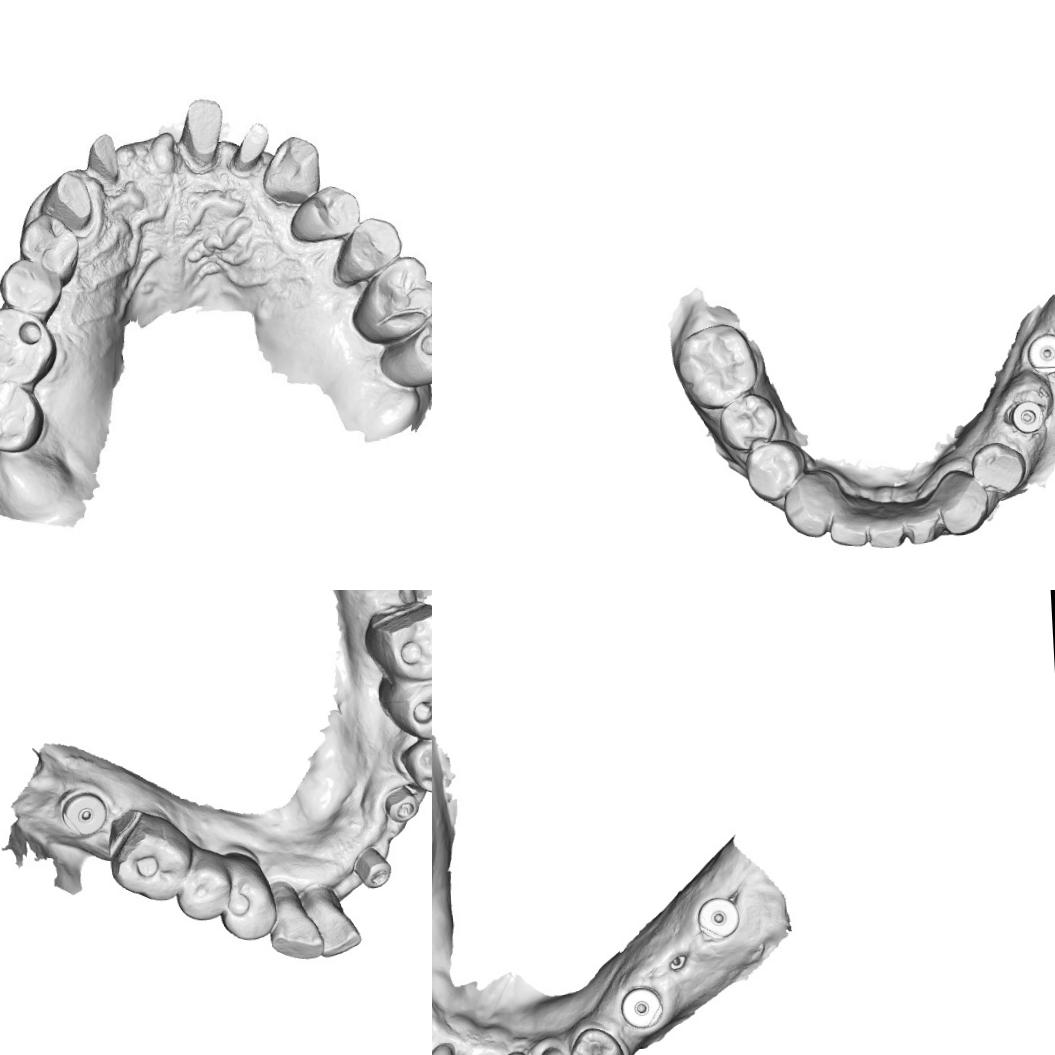canine: (259, 134, 322, 206), (266, 886, 322, 962), (934, 466, 992, 538), (781, 465, 834, 538)
crown: (173, 96, 226, 175), (38, 169, 96, 236), (224, 120, 270, 176), (84, 130, 123, 190)
implant: (60, 787, 112, 839), (695, 894, 742, 941), (618, 984, 666, 1030), (354, 843, 393, 892), (1002, 396, 1048, 436), (1021, 330, 1055, 376), (383, 784, 422, 824)
incisor: (310, 894, 362, 959), (826, 484, 870, 550), (863, 497, 906, 549), (901, 494, 942, 546)
molar: (671, 318, 759, 410), (347, 253, 432, 346), (109, 816, 190, 904), (370, 600, 432, 685), (0, 304, 58, 388), (375, 308, 432, 390), (0, 375, 46, 455)
premolar: (328, 214, 403, 288), (216, 861, 280, 941), (16, 210, 81, 288), (287, 184, 362, 244), (743, 432, 806, 500), (0, 255, 63, 321), (716, 390, 780, 453), (176, 852, 234, 920), (968, 438, 1030, 500), (387, 674, 432, 741), (398, 734, 432, 795), (567, 1024, 626, 1055)
